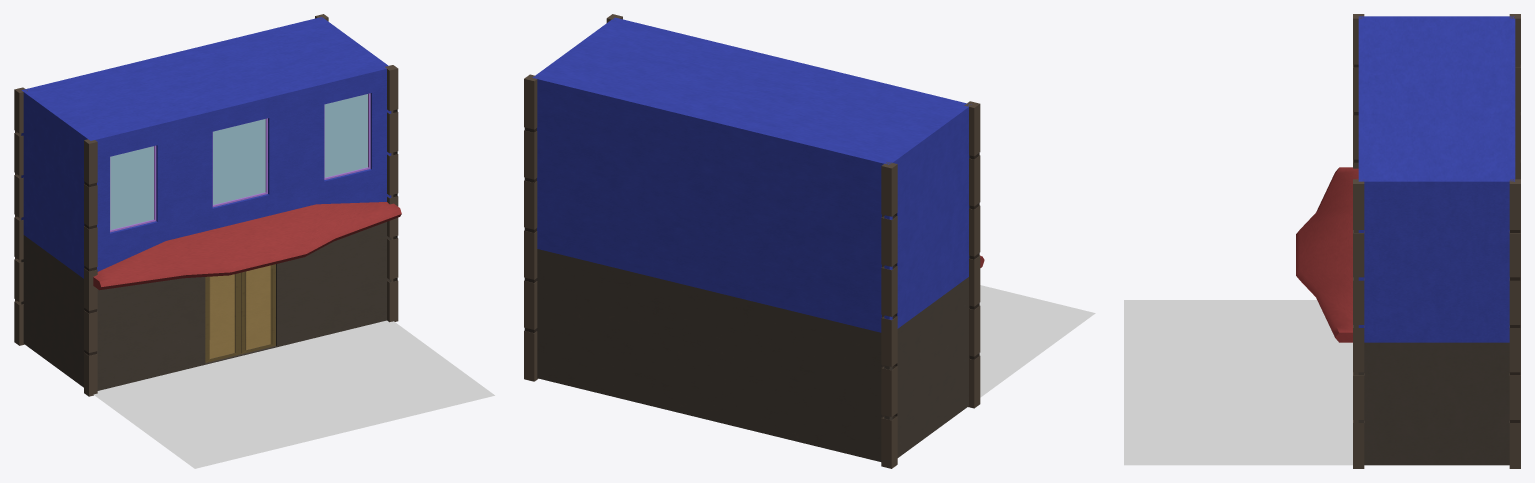
The model's file is Bbuildingidk.fbx.
The picture shows the model from 3 angles, left to right: view 1: azimuth 30°, elevation 25°; view 2: azimuth 150°, elevation 25°; view 3: azimuth 270°, elevation 25°; orthographic projection. The views are drawn at different scales.
Visible parts, largest first — view 1: Cube.014, Plane.006; view 2: Cube.014, Plane.006; view 3: Cube.014, Plane.006.
Boxes of the visible parts, box(x1,y1,x2,y2) form: Cube.014: box(14, 14, 401, 396); Plane.006: box(93, 320, 494, 468); Cube.014: box(524, 14, 984, 468); Plane.006: box(979, 285, 1095, 397); Cube.014: box(1296, 14, 1520, 468); Plane.006: box(1124, 300, 1352, 465).
Bounding box in the file's own units: 2058 × 1607 × 2029.
Materials: 9 (5 with a texture image).
